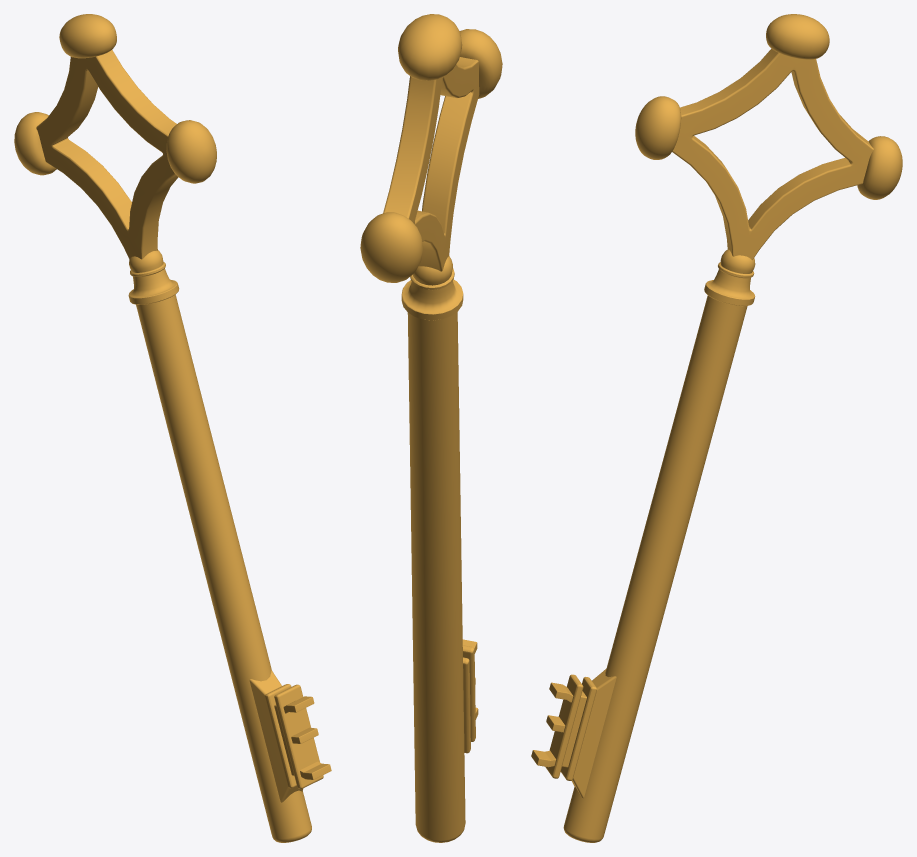
The model's file is attack_on_titan_erens_basement_key.glb.
The picture shows the model from 3 angles, left to right: view 1: azimuth 30°, elevation 25°; view 2: azimuth 150°, elevation 25°; view 3: azimuth 270°, elevation 25°; orthographic projection. The views are drawn at different scales.
Parts seen in each view (by area): view 1: pCylinder3, pPlane1, pSphere2, pCube5, pSphere1, pCube3, pSphere3, pCube4; view 2: pCylinder3, pPlane1, pSphere3, pSphere1, pSphere2, pCube4, pCube5; view 3: pCylinder3, pPlane1, pSphere2, pSphere1, pCube3, pSphere3, pCube5, pCube4.
Part boxes in pixels (x1,y1,x2,y2): pCylinder3: [128, 250, 311, 842]; pPlane1: [36, 50, 178, 259]; pSphere2: [166, 120, 216, 183]; pCube5: [274, 684, 323, 788]; pSphere1: [59, 14, 116, 58]; pCube3: [249, 670, 303, 802]; pSphere3: [14, 112, 56, 175]; pCube4: [265, 684, 296, 788]; pCylinder3: [401, 256, 465, 842]; pPlane1: [383, 57, 479, 271]; pSphere3: [360, 212, 422, 282]; pSphere1: [398, 14, 462, 80]; pSphere2: [459, 29, 502, 98]; pCube4: [463, 657, 470, 753]; pCube5: [462, 645, 475, 741]; pCylinder3: [563, 249, 755, 842]; pPlane1: [672, 48, 873, 260]; pSphere2: [635, 96, 681, 159]; pSphere1: [766, 14, 829, 59]; pCube3: [572, 668, 616, 798]; pSphere3: [857, 136, 902, 199]; pCube5: [545, 674, 583, 778]; pCube4: [560, 677, 596, 780].
Bounding box in the file's own units: 0.0162 × 0.0816 × 0.0354.
